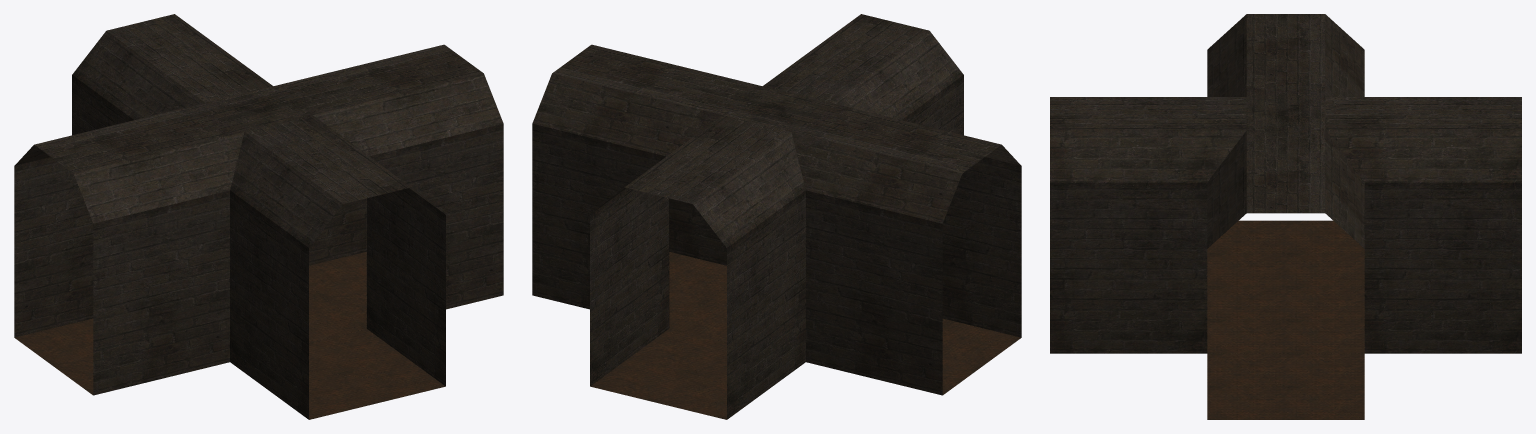
Rendered from tunnel_mp_1_cross_tee.glb.
The picture shows the model from 3 angles, left to right: view 1: azimuth 30°, elevation 25°; view 2: azimuth 150°, elevation 25°; view 3: azimuth 270°, elevation 25°; orthographic projection.
Parts seen in each view (by area): view 1: tunnel_mp_1_cross_tee; view 2: tunnel_mp_1_cross_tee; view 3: tunnel_mp_1_cross_tee.
Boxes of the visible parts, x1,y1,x2,y2 form: tunnel_mp_1_cross_tee: [14, 14, 503, 419]; tunnel_mp_1_cross_tee: [532, 14, 1021, 419]; tunnel_mp_1_cross_tee: [1050, 14, 1521, 419].
Size of the model in its own units: 6 by 2.9 by 6.
2 materials, 2 textured.
